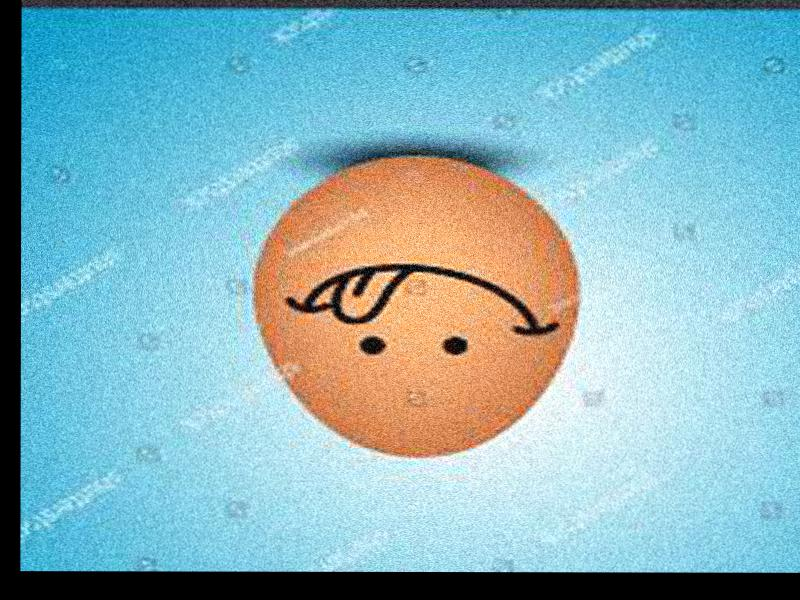Eggs: (252, 154, 581, 458)
